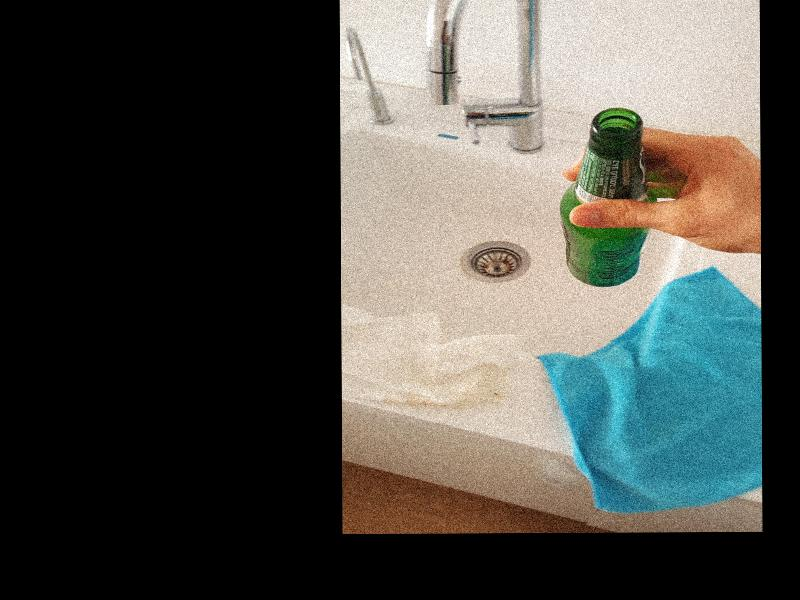Beer: (558, 108, 655, 288)
